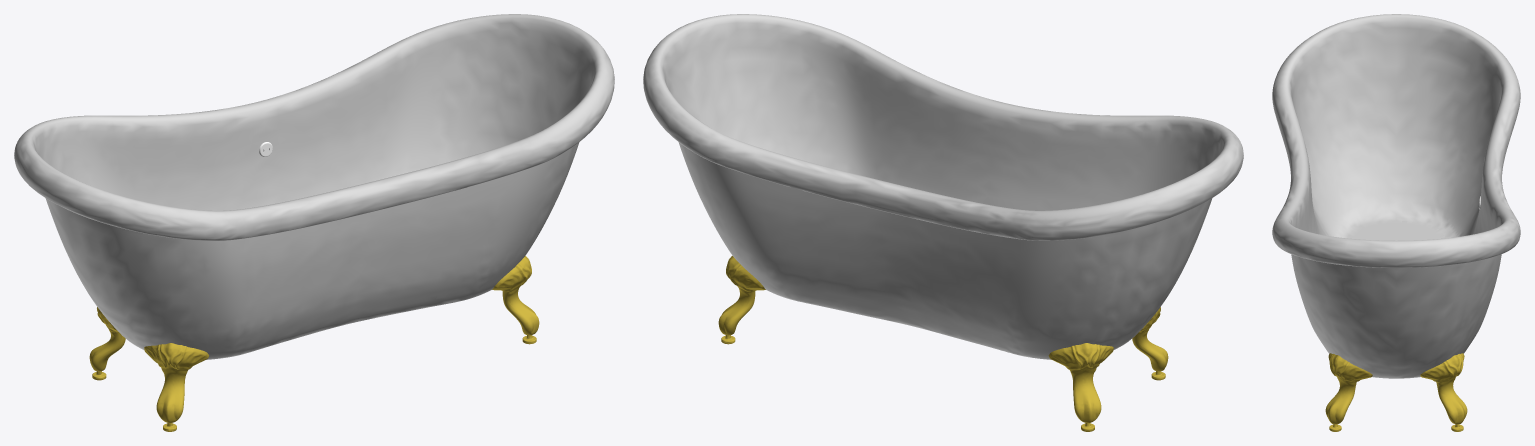
File: banheira.fbx
3 views of the same model, side by side, from view 1: azimuth 30°, elevation 25°; view 2: azimuth 150°, elevation 25°; view 3: azimuth 270°, elevation 25° (orthographic). The views are drawn at different scales.
Visible parts, largest first — view 1: Rectangle001, Cylinder003; view 2: Rectangle001, Cylinder003; view 3: Rectangle001, Cylinder003.
Boxes of the visible parts, x1,y1,x2,y2 form: Rectangle001: (14,14,614,359); Cylinder003: (89,256,539,423); Rectangle001: (643,14,1243,359); Cylinder003: (718,256,1168,423); Rectangle001: (1272,14,1520,378); Cylinder003: (1325,353,1467,424).
Size of the model in its own units: 175 by 77.88 by 77.65.
